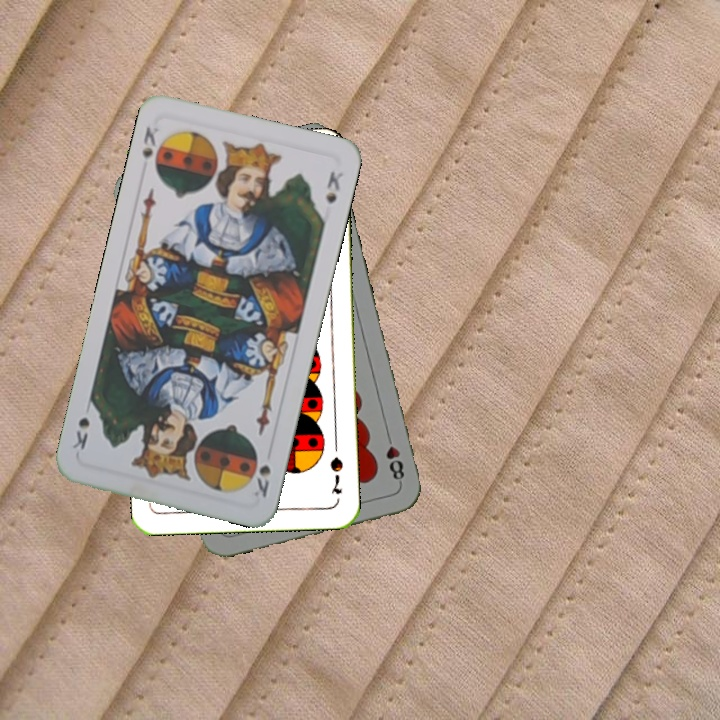H8: (382, 428, 407, 487)
S7: (326, 452, 346, 497)
SK: (249, 460, 274, 500), (138, 122, 162, 162)
